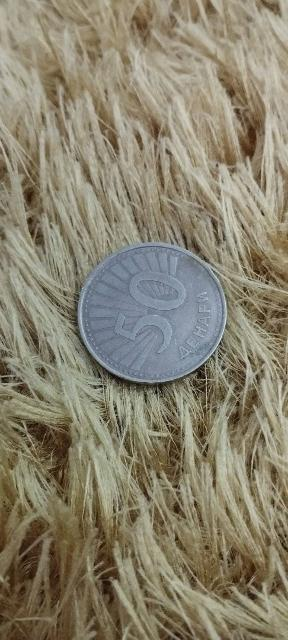coin: (78, 243, 226, 383)
